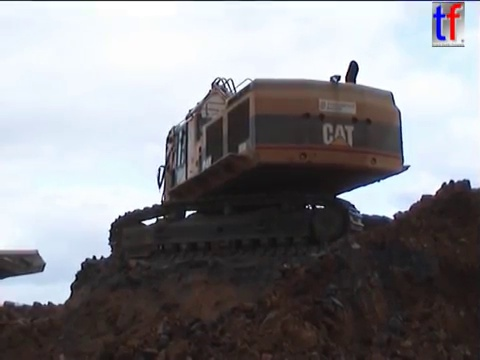excavator: (104, 56, 416, 260), (1, 246, 49, 283)
